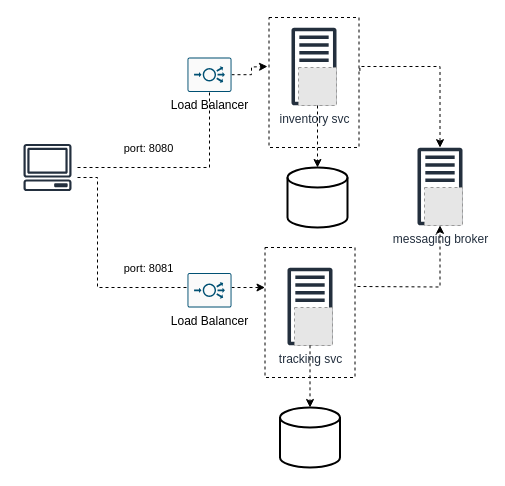
The diagram is 505 pixels wide and 486 high, and some of its shapes have lost their labels. Grey dashed boxes stand in for pictures. Each missing label, with the centre of its shape:
Client: point (47, 167)
mongodb inventory: point (317, 197)
mongodb tracking: point (309, 437)
